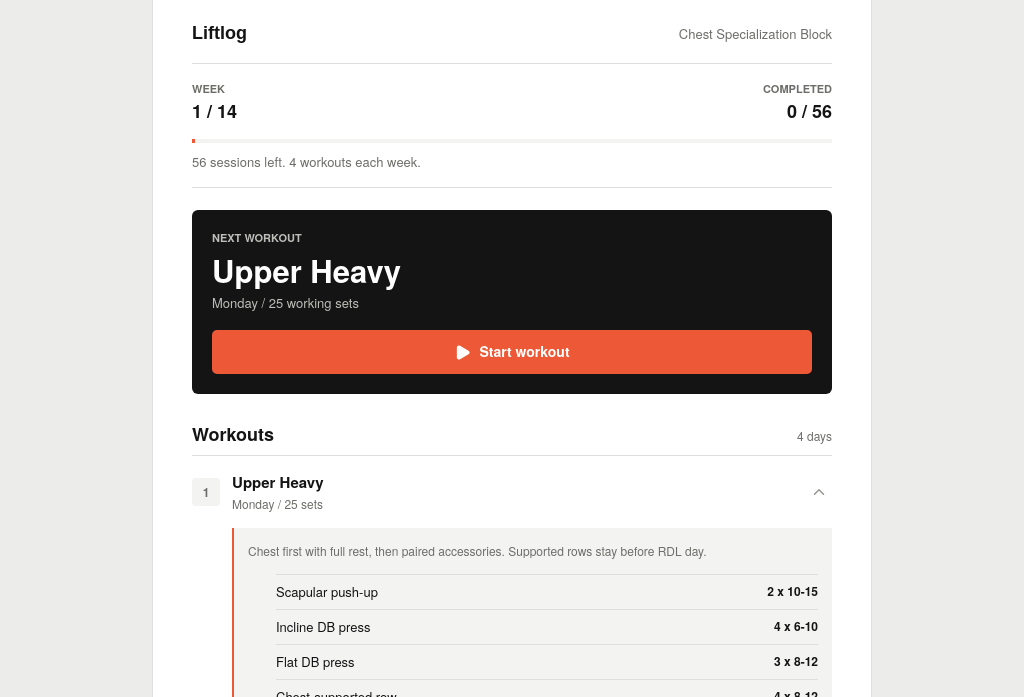
Test: App › offers a working retry after a failed autosave
The image size is (1024, 697).
What coordinates should you click on to do the following:
click the button "Start workout"
I would click on:
 (512, 352)
Its box is 212,330 -> 812,374.
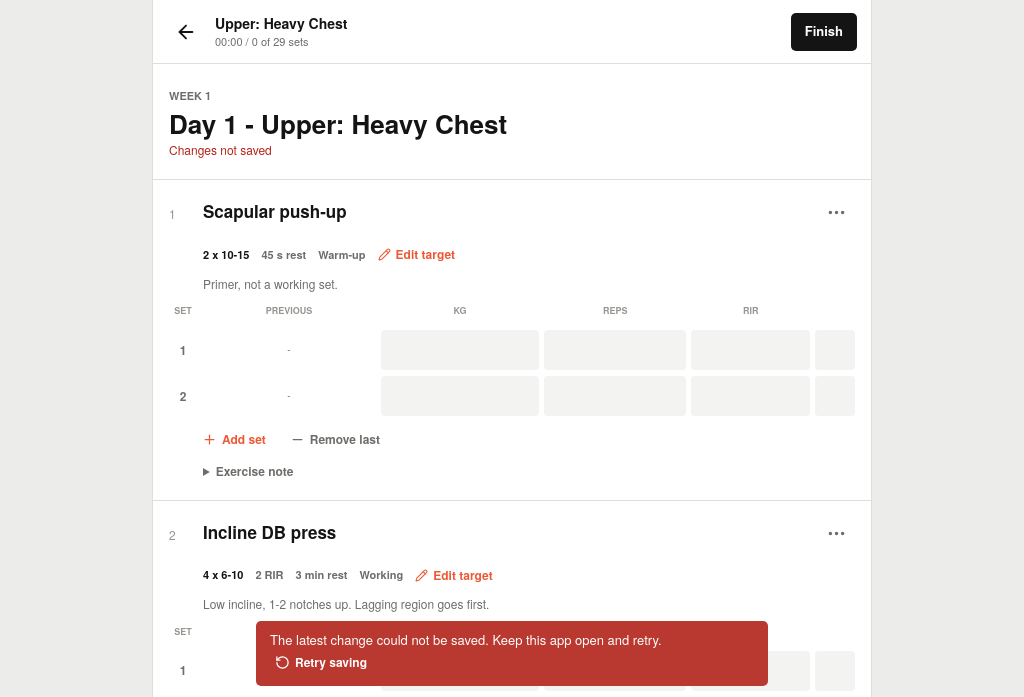
Check: the heading "Day 1 - Upper: Heavy Chest" is shown, box 169,105 -> 507,142
Check: the text "Changes not saved" is shown, box 169,142 -> 272,158
What coordinates should you click on to do the following:
click the button "Retry saving"
I would click on:
 (321, 663)
Its box is 270,649 -> 372,676.
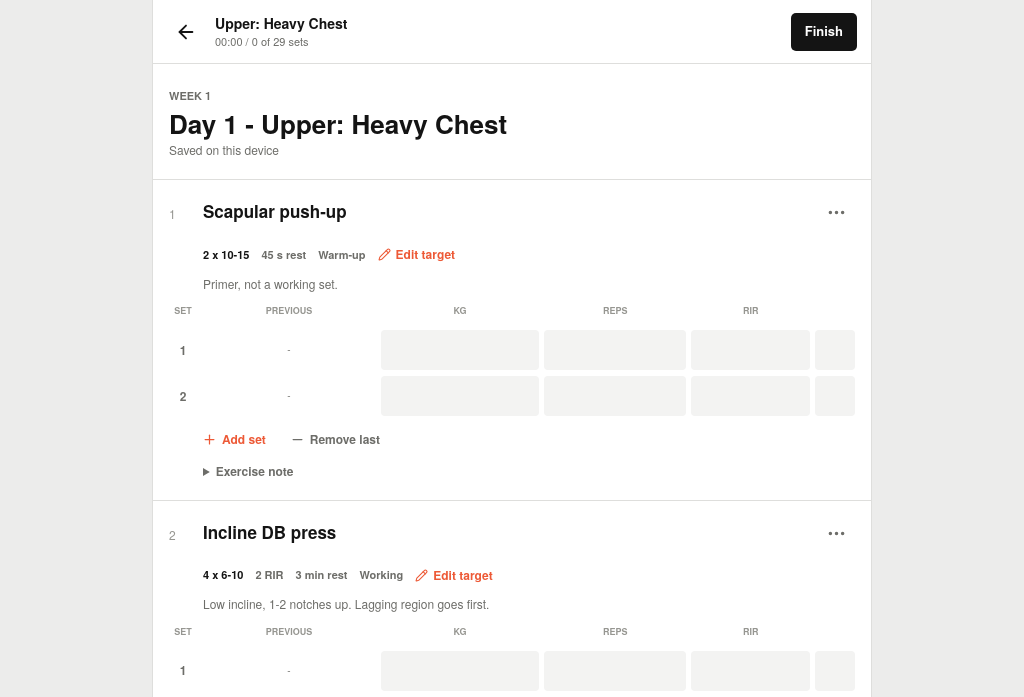
Check: the text "Saved on this device" is shown, box 169,142 -> 279,158
Check: the message is gone
